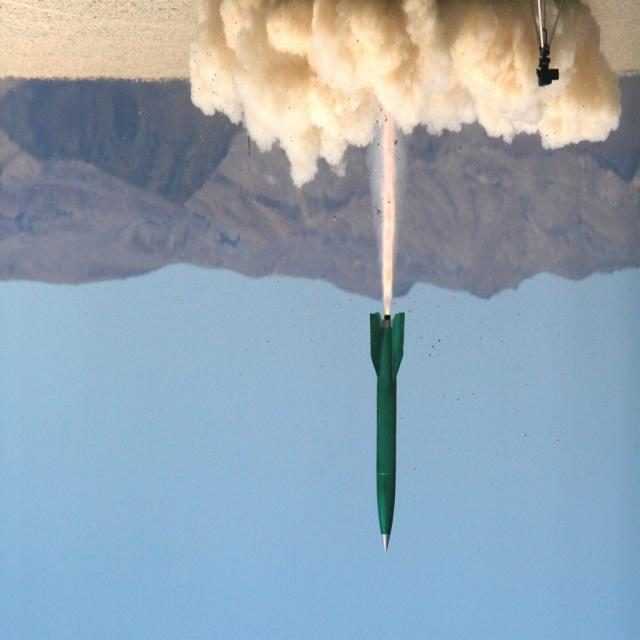missile: (370, 311, 406, 555)
